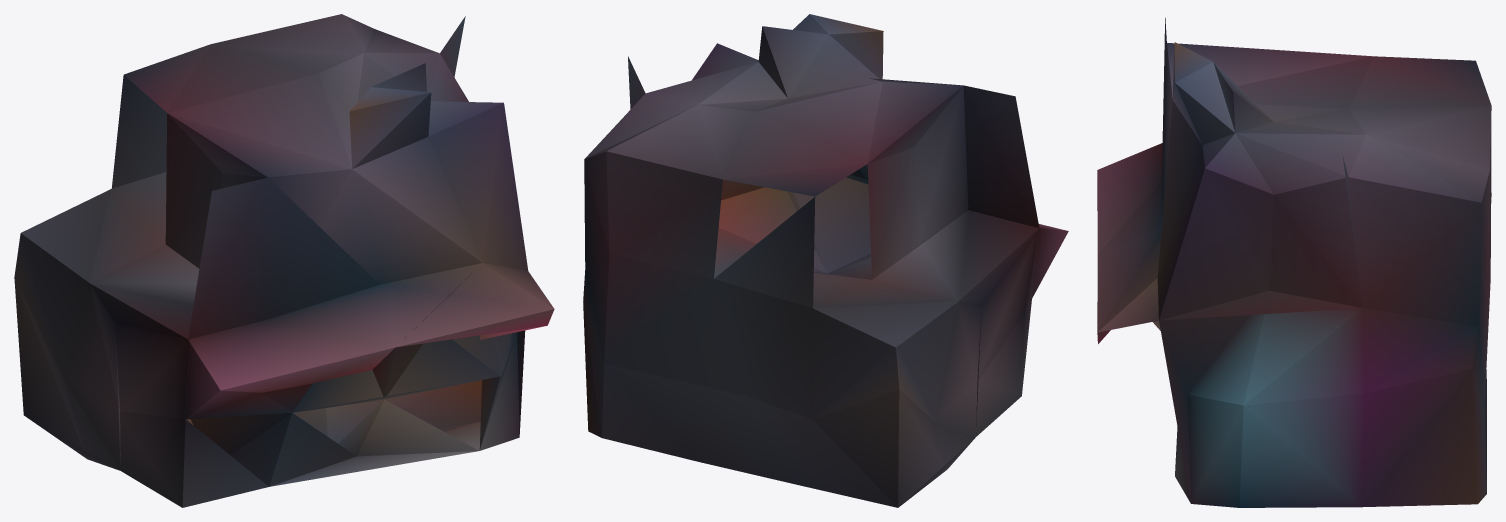
File: cyber-shop.glb
The picture shows the model from 3 angles, left to right: view 1: azimuth 30°, elevation 25°; view 2: azimuth 150°, elevation 25°; view 3: azimuth 270°, elevation 25°; orthographic projection. The views are drawn at different scales.
Parts seen in each view (by area): view 1: cyber-shop-far; view 2: cyber-shop-far; view 3: cyber-shop-far.
Boxes of the visible parts, x1,y1,x2,y2 form: cyber-shop-far: [14, 14, 554, 507]; cyber-shop-far: [583, 14, 1068, 507]; cyber-shop-far: [1097, 17, 1491, 507].
Bounding box in the file's own units: 8.56 × 8.21 × 7.77.
